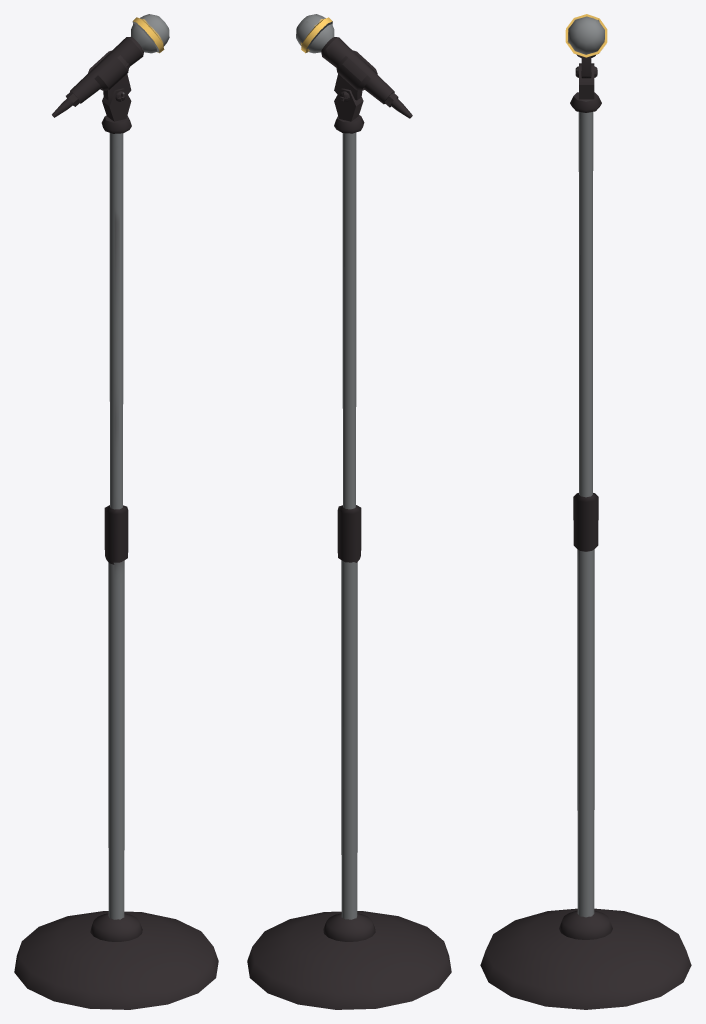
File: Mic.fbx
3 views of the same model, side by side, from view 1: azimuth 30°, elevation 25°; view 2: azimuth 150°, elevation 25°; view 3: azimuth 270°, elevation 25° (orthographic). The views are drawn at different scales.
Parts seen in each view (by area): view 1: Mic; view 2: Mic; view 3: Mic.
Boxes of the visible parts, bbox=[...] form: Mic: bbox=[14, 14, 218, 1009]; Mic: bbox=[247, 14, 451, 1009]; Mic: bbox=[480, 14, 691, 1009].
Size of the model in its own units: 100 by 504 by 100.
